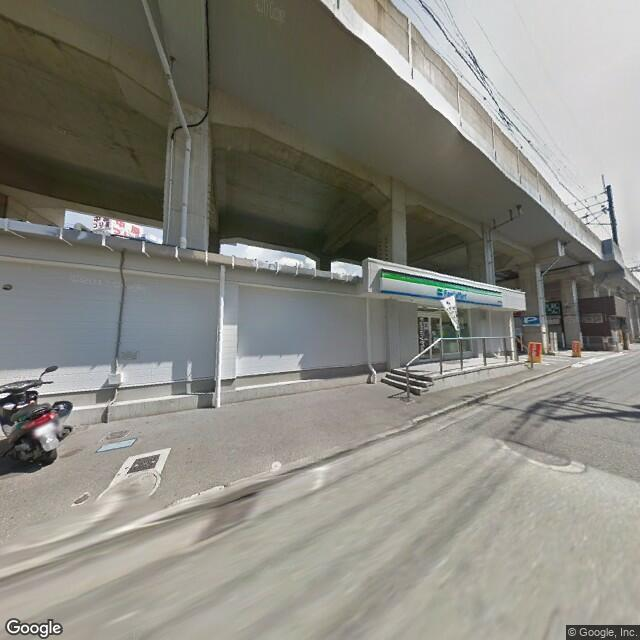family_mart: (378, 264, 504, 311)
